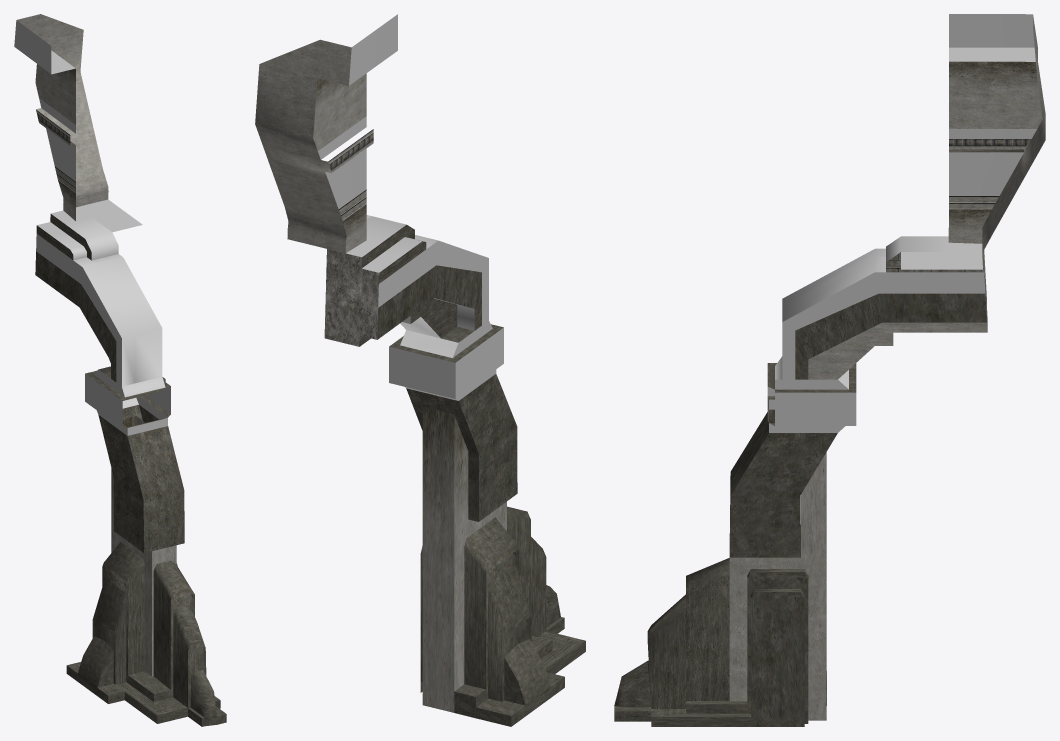
File: DWARF_PALACE_MAINHALL_ENTRENCE01.obj
3 renders of one model, left to right at view 1: azimuth 30°, elevation 25°; view 2: azimuth 150°, elevation 25°; view 3: azimuth 270°, elevation 25°, orthographic. The views are drawn at different scales.
Parts seen in each view (by area): view 1: hall_entrence01; view 2: hall_entrence01; view 3: hall_entrence01.
Boxes of the visible parts, x1,y1,x2,y2 form: hall_entrence01: (14, 14, 226, 726); hall_entrence01: (255, 14, 585, 726); hall_entrence01: (614, 14, 1045, 726).
Size of the model in its own units: 396 by 2049 by 1164.
